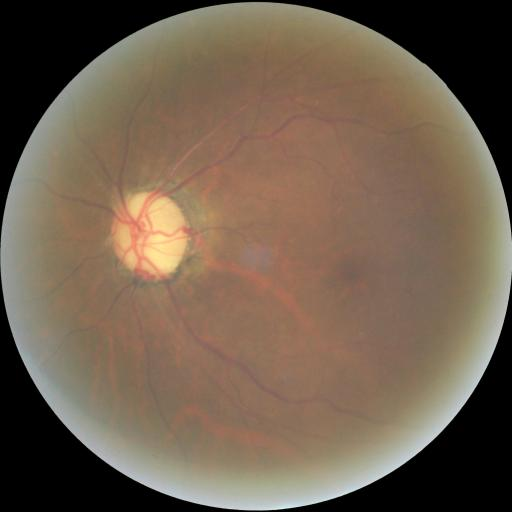Optic Disc: (109, 189, 189, 281)
